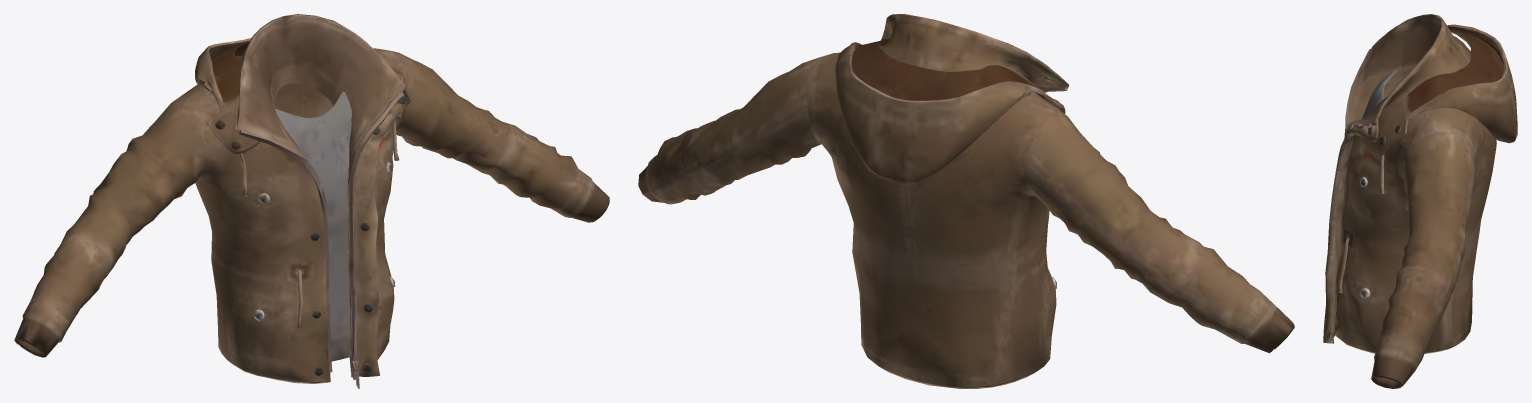
File: ropa_heavy_worn_jacket.glb
The picture shows the model from 3 angles, left to right: view 1: azimuth 30°, elevation 25°; view 2: azimuth 150°, elevation 25°; view 3: azimuth 270°, elevation 25°; orthographic projection. The views are drawn at different scales.
Visible parts, largest first — view 1: defaultMaterial; view 2: defaultMaterial; view 3: defaultMaterial.
Part boxes in pixels (<box>): defaultMaterial: <box>14,14,609,388</box>; defaultMaterial: <box>638,14,1294,388</box>; defaultMaterial: <box>1323,14,1517,388</box>.
Bounding box in the file's own units: 1.49 × 0.8003 × 0.4512.
1 material, 1 textured.
